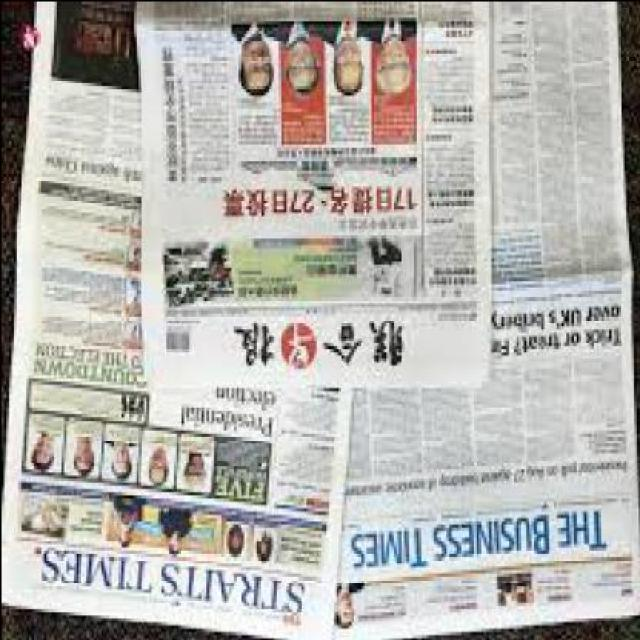PAPER: (1, 3, 354, 639), (336, 2, 638, 638), (136, 3, 496, 394)
